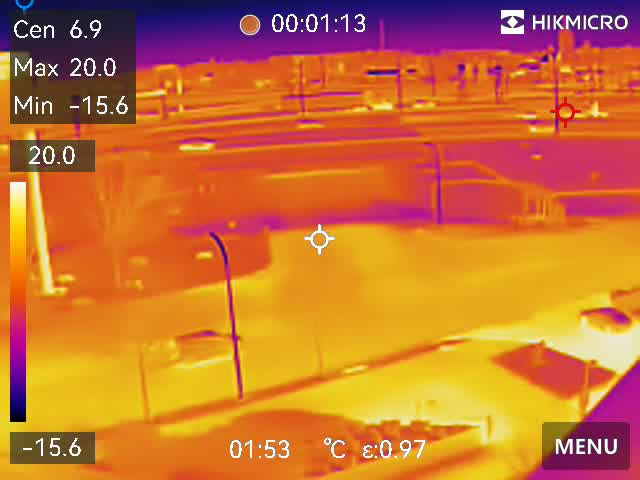heavyTruck: (512, 93, 606, 121), (276, 92, 395, 114)
smallCar: (575, 300, 631, 340), (175, 135, 219, 157)
vehicle: (162, 325, 239, 358), (293, 116, 325, 133), (409, 95, 441, 109), (529, 120, 559, 134)
